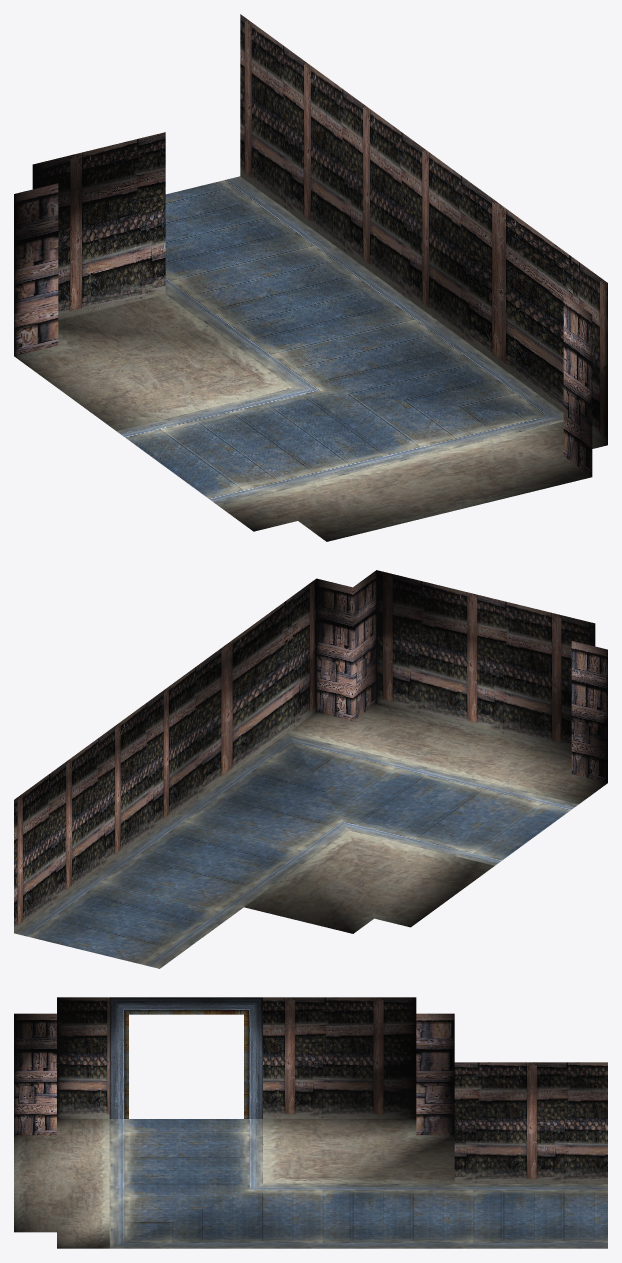
3 views of the same model, one above another, from view 1: azimuth 30°, elevation 25°; view 2: azimuth 150°, elevation 25°; view 3: azimuth 270°, elevation 25° (orthographic). The views are drawn at different scales.
Visible parts, largest first — view 1: M09_Z05_04; view 2: M09_Z05_04; view 3: M09_Z05_04.
Boxes of the visible parts, bbox=[...] form: M09_Z05_04: bbox=[14, 14, 607, 541]; M09_Z05_04: bbox=[14, 570, 607, 968]; M09_Z05_04: bbox=[14, 997, 607, 1248].
Size of the model in its own units: 8 by 3.5 by 15.5.
5 materials, 5 textured.
